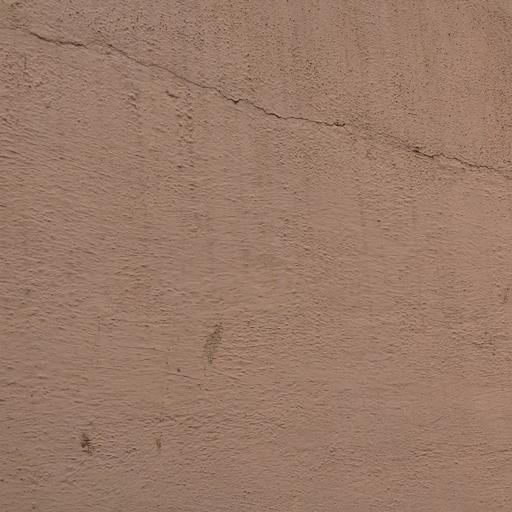minor_crack: (0, 7, 512, 186)
